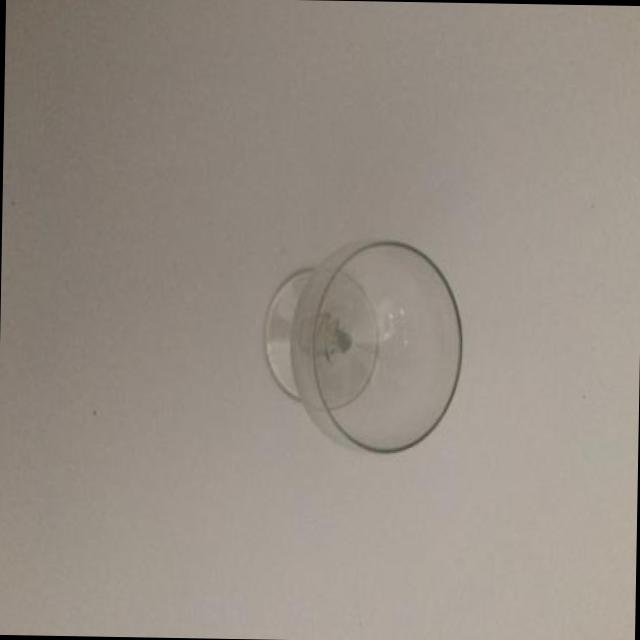chai_thuy_tinh: (264, 242, 461, 452)
